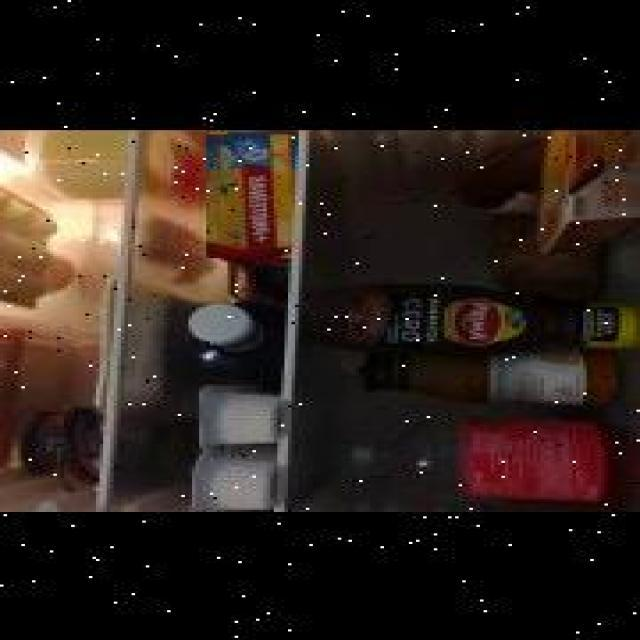yogurt: (208, 132, 294, 256), (195, 386, 281, 450), (192, 452, 274, 512), (64, 403, 100, 489)
